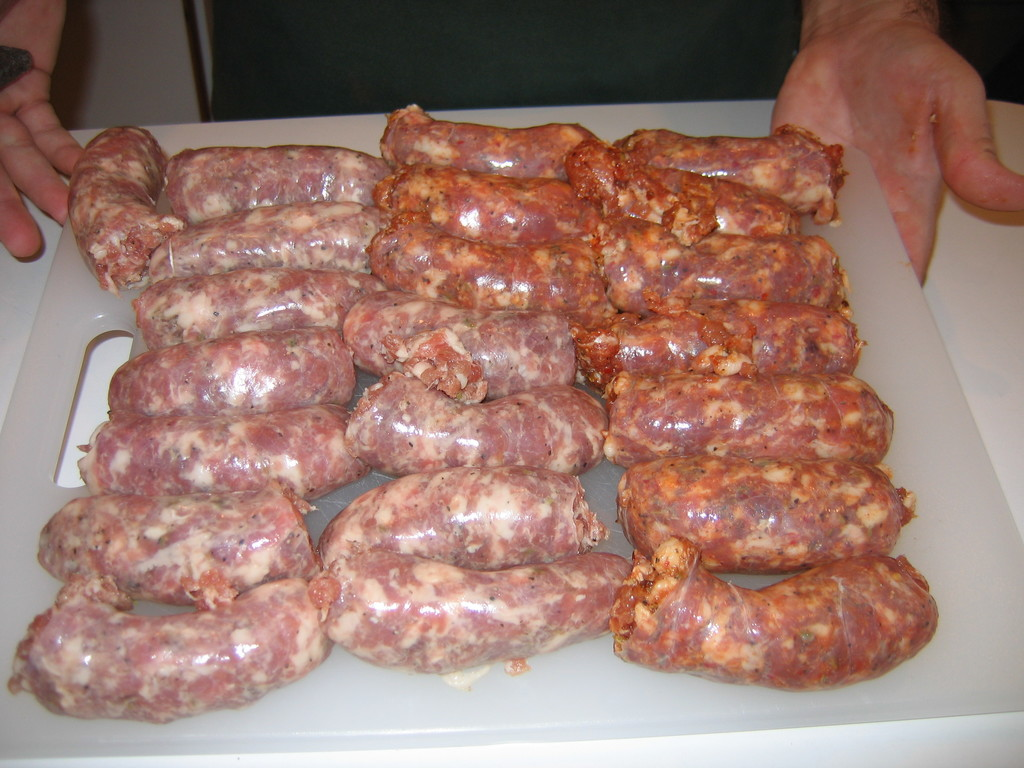person: (0, 0, 86, 261)
